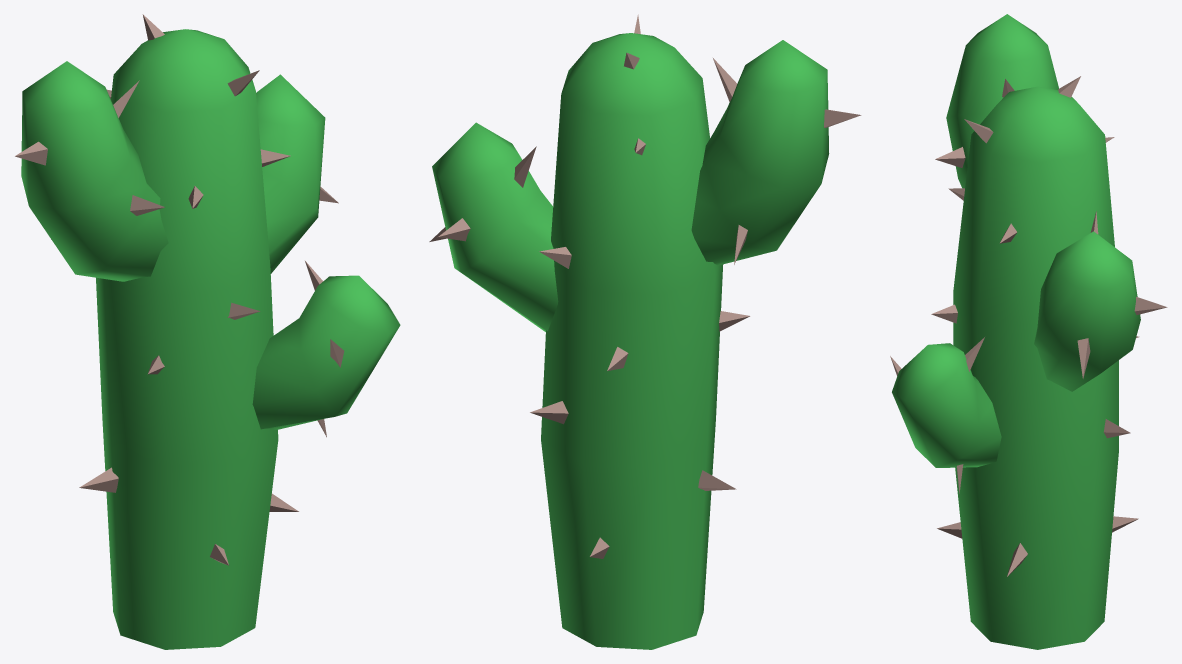
File: Cactus6.fbx
3 renders of one model, left to right at view 1: azimuth 30°, elevation 25°; view 2: azimuth 150°, elevation 25°; view 3: azimuth 270°, elevation 25°, orthographic. The views are drawn at different scales.
Parts seen in each view (by area): view 1: Cactus6.001; view 2: Cactus6.001; view 3: Cactus6.001.
Boxes of the visible parts, x1,y1,x2,y2 form: Cactus6.001: (15, 14, 400, 649); Cactus6.001: (429, 14, 861, 649); Cactus6.001: (890, 14, 1167, 649).
Bounding box in the file's own units: 0.6082 × 0.872 × 1.32.
